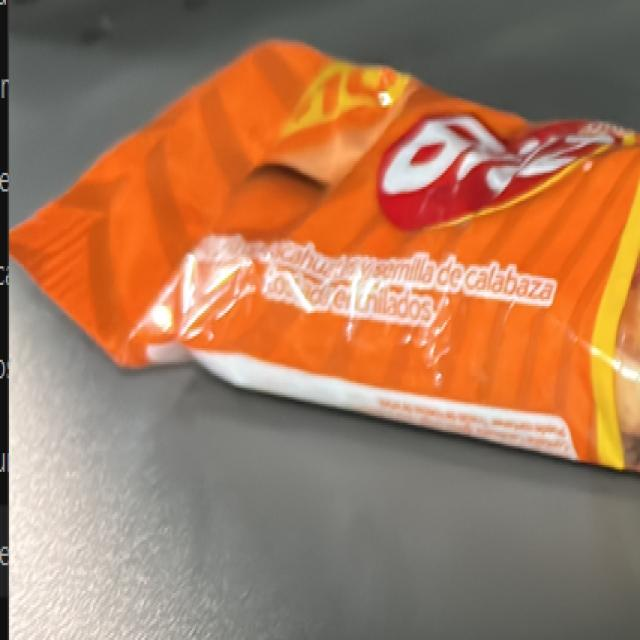bitzEnchilado95: (66, 29, 634, 468)
